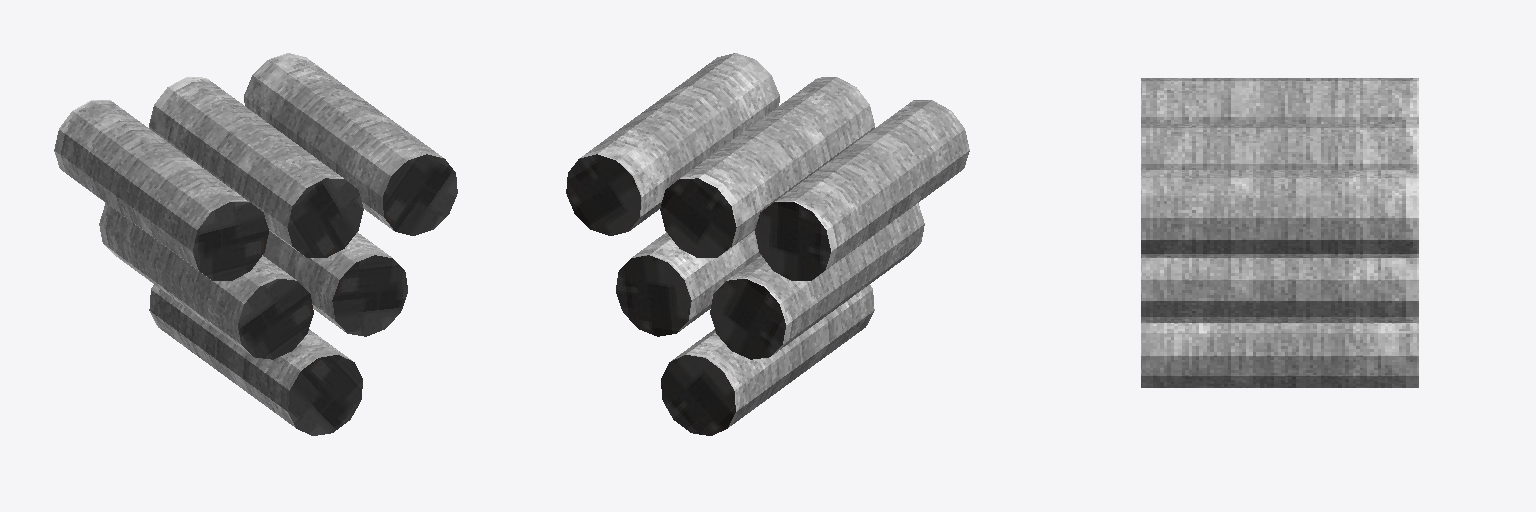
The picture shows the model from 3 angles: view 1: azimuth 30°, elevation 25°; view 2: azimuth 150°, elevation 25°; view 3: azimuth 270°, elevation 25°; orthographic projection.
Parts seen in each view (by area): view 1: Cylinder.002_Cylinder.021; view 2: Cylinder.002_Cylinder.021; view 3: Cylinder.002_Cylinder.021.
Part boxes in pixels (x1,y1,x2,y2): Cylinder.002_Cylinder.021: (54, 53, 457, 435); Cylinder.002_Cylinder.021: (566, 53, 969, 435); Cylinder.002_Cylinder.021: (1141, 78, 1418, 387).
Bounding box in the file's own units: 0.4759 × 0.4401 × 0.4309.
1 materials, 1 textured.